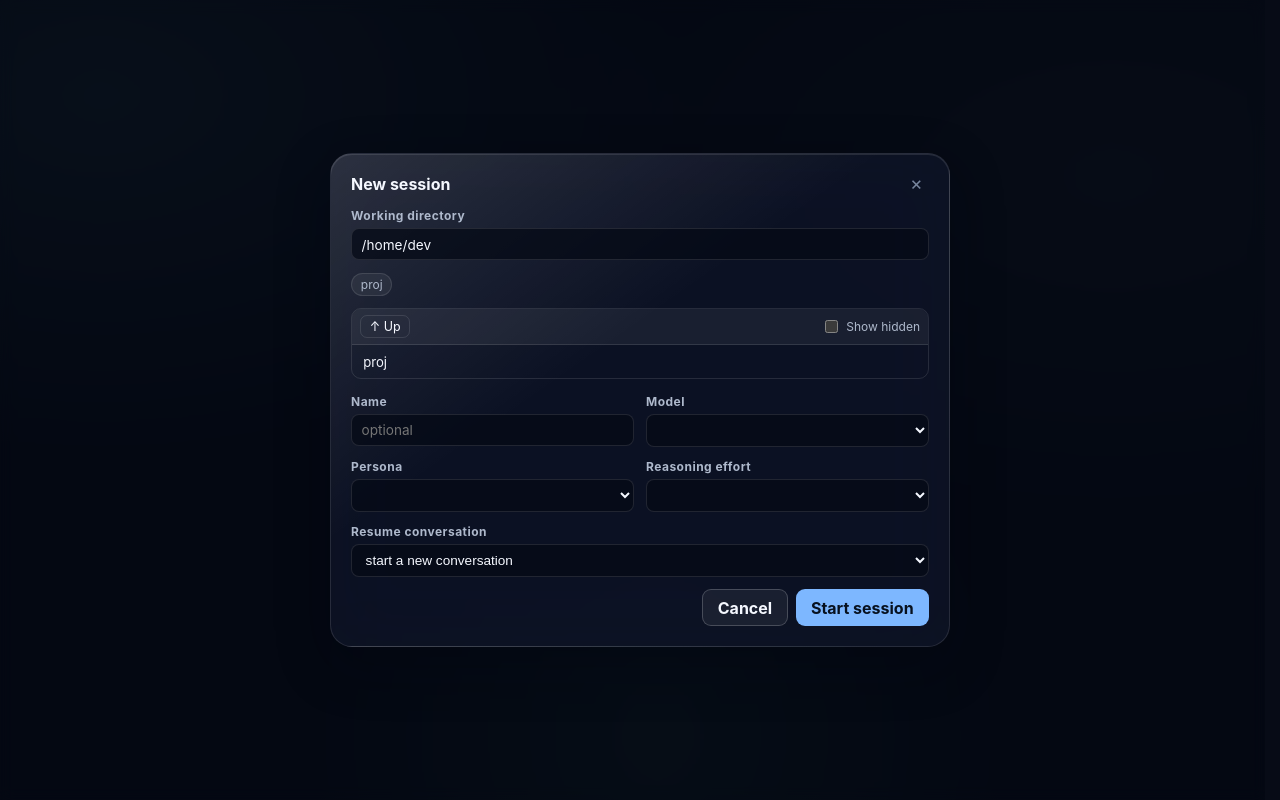
Test: NewSessionDialog › browses directories and hides dotted entries by default
expect the buttons read "proj", in this order: met, box left=356, top=349, right=924, bottom=374
What coordinates should you click on to do the following:
click the checkbox labelled "Show hidden"
I would click on:
 (832, 326)
Its box is left=825, top=320, right=838, bottom=333.
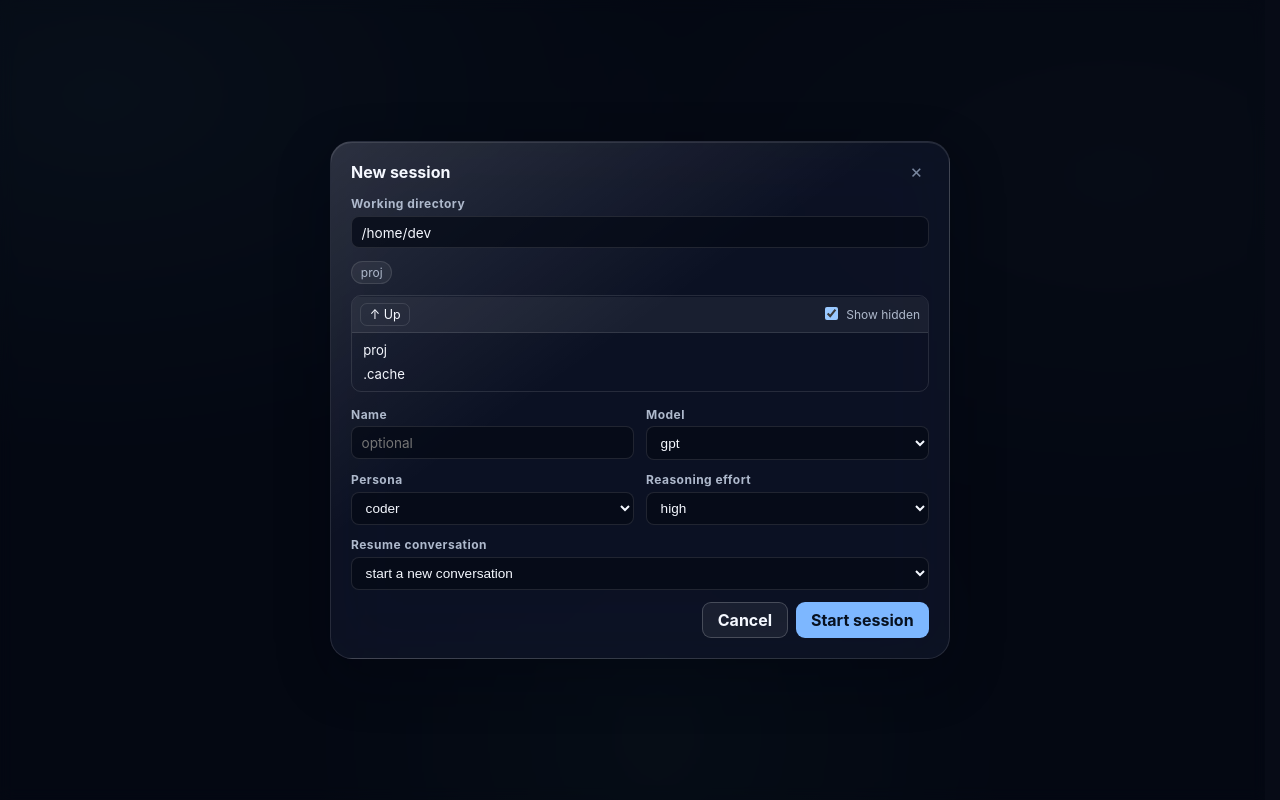
expect the buttons read "proj", ".cache", in this order: met, box left=356, top=336, right=924, bottom=362; left=356, top=362, right=924, bottom=387
